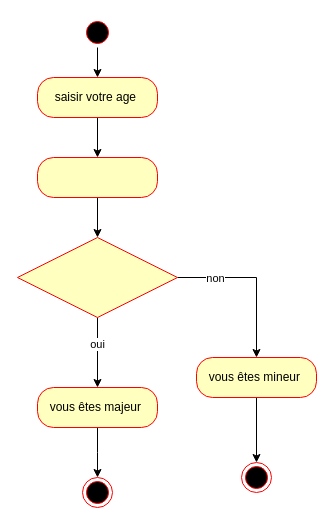
The diagram is 334 pixels wide and 525 high, and some of its shapes have lost their labels. The shapes that lost their labels are listed below. From the top down, each one's centre as x and y in pixels, then its label:
At (x=97, y=177): "si age est <=-1 afficher vous n êtes pas née".
At (x=97, y=277): "si age >= à18ans".
